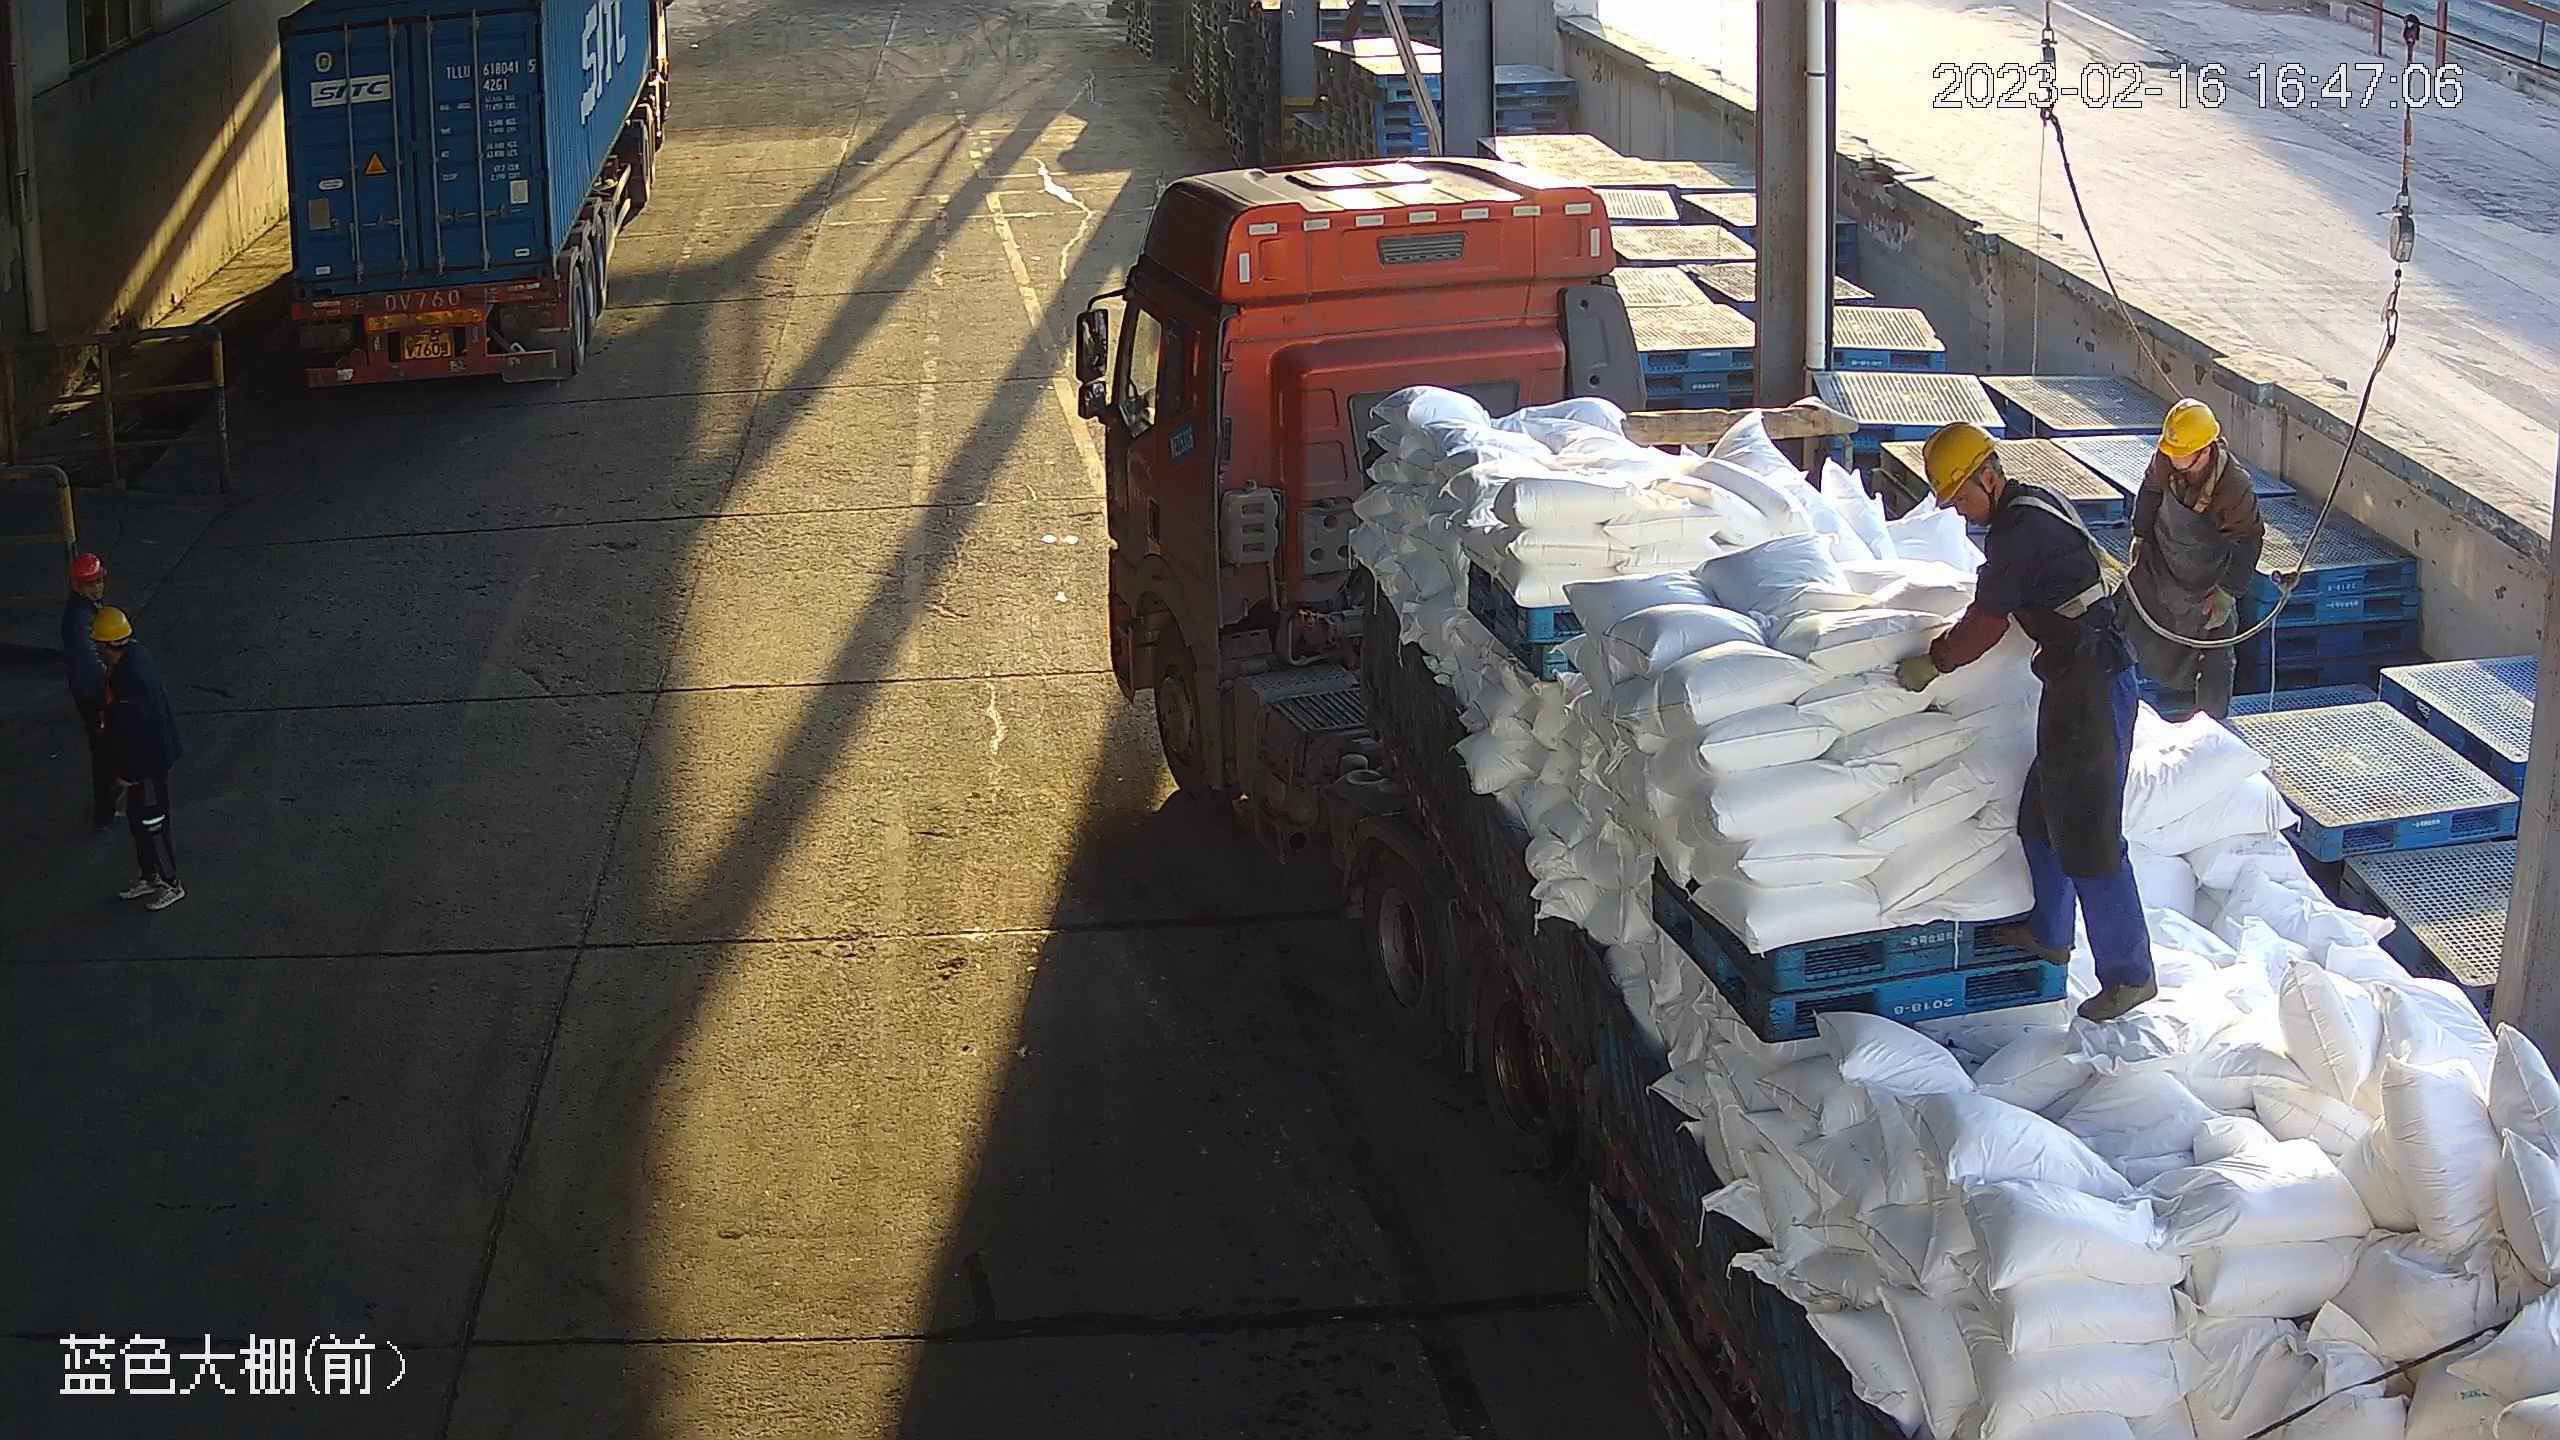belt: (2012, 486, 2135, 625), (2167, 454, 2271, 522)
head: (1915, 422, 2086, 598), (2151, 399, 2254, 529), (93, 606, 169, 708), (52, 550, 112, 650)
helmet: (1922, 427, 2000, 505), (2159, 400, 2223, 457), (91, 606, 130, 642), (69, 557, 110, 586)
people: (1898, 417, 2166, 1022), (2118, 394, 2266, 728), (93, 606, 191, 918), (56, 549, 125, 828)
truck: (1067, 152, 2560, 1440), (267, 1, 678, 389)
